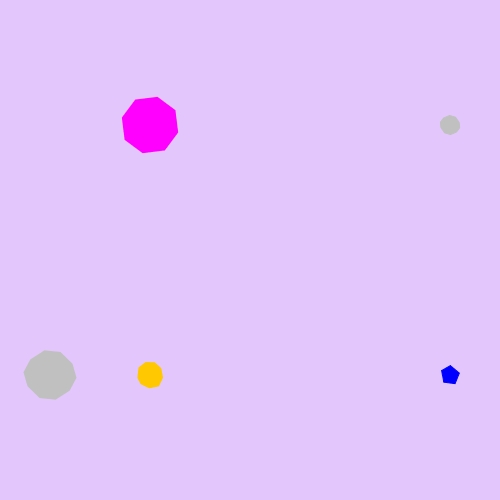decagon: (20, 348, 80, 403), (435, 111, 465, 139)
nonagon: (133, 358, 168, 392)
octagon: (118, 93, 183, 158)
pentagon: (436, 361, 464, 389)
